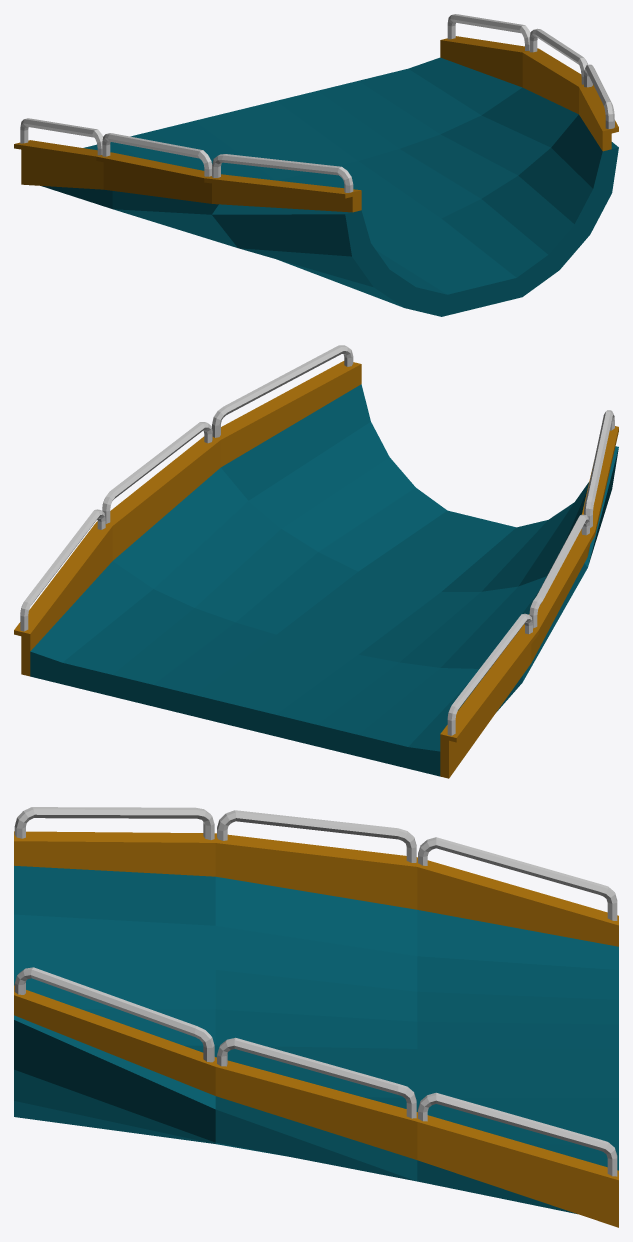
The model's file is halfpipe_adapter.FBX.
The picture shows the model from 3 angles, top to bottom: view 1: azimuth 30°, elevation 25°; view 2: azimuth 150°, elevation 25°; view 3: azimuth 270°, elevation 25°; orthographic projection. The views are drawn at different scales.
Parts seen in each view (by area): view 1: halfpipe_adapter, wall_r, wall_l; view 2: halfpipe_adapter, wall_l, wall_r; view 3: halfpipe_adapter, wall_l, wall_r.
Boxes of the visible parts, <box> form: halfpipe_adapter: <box>41,57,618,316</box>; wall_r: <box>14,118,361,212</box>; wall_l: <box>440,14,618,151</box>; halfpipe_adapter: <box>30,384,618,776</box>; wall_l: <box>14,345,361,676</box>; wall_r: <box>440,410,618,778</box>; halfpipe_adapter: <box>14,865,618,1214</box>; wall_l: <box>14,967,618,1227</box>; wall_r: <box>14,807,618,946</box>.
Size of the model in its own units: 207 by 200 by 77.25.
